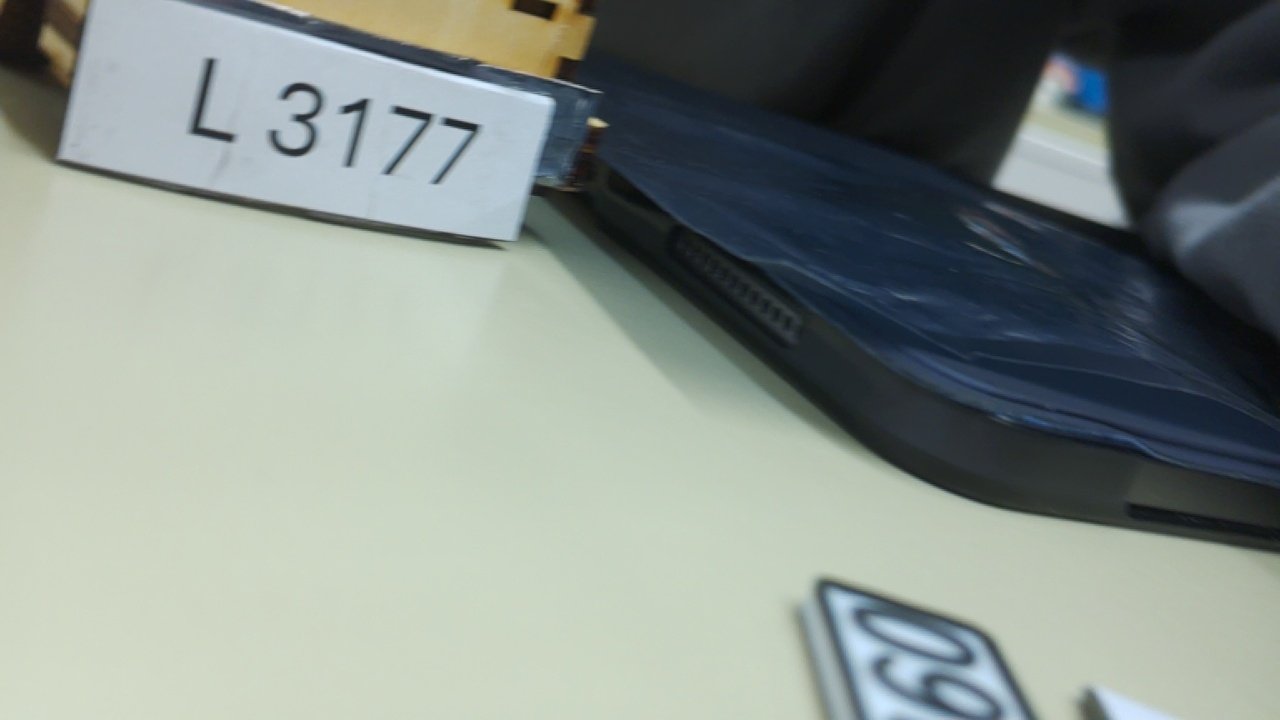license_plate: (2, 0, 559, 245)
